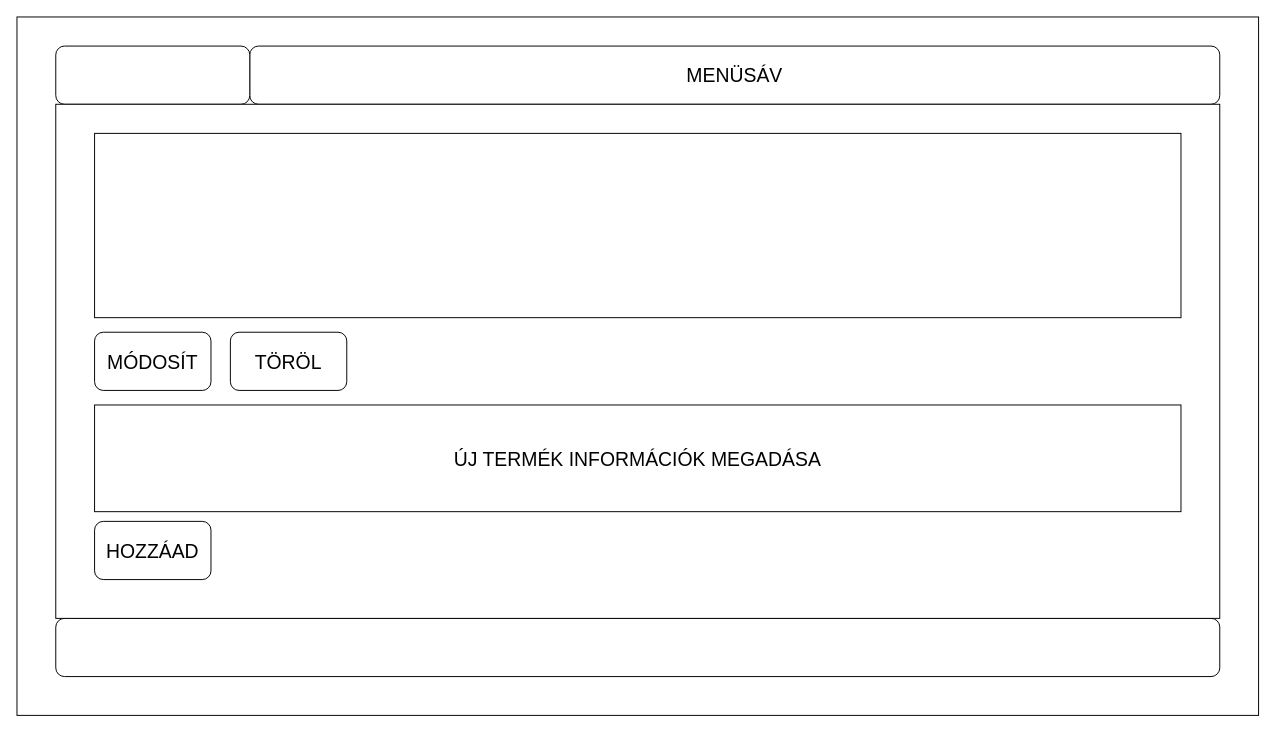
Some shapes in this 1276 by 732 pixel diagram are drawn without their labels. Here are the shapes that lost their labels. From the top down, the centre of each, then its label:
point 152,74: LOGÓ ÉS CÉGNÉV
point 637,225: TERMÉKEK LISTÁJA
point 637,647: LÁBJEGYZET
